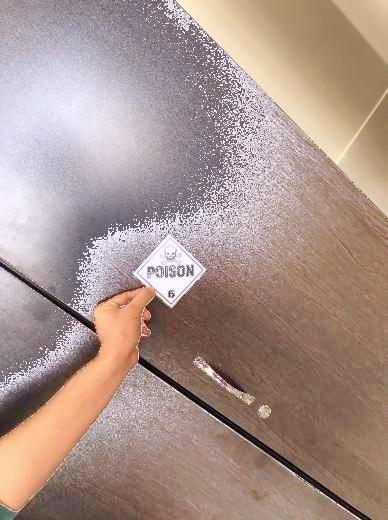poison: (132, 233, 207, 308)
